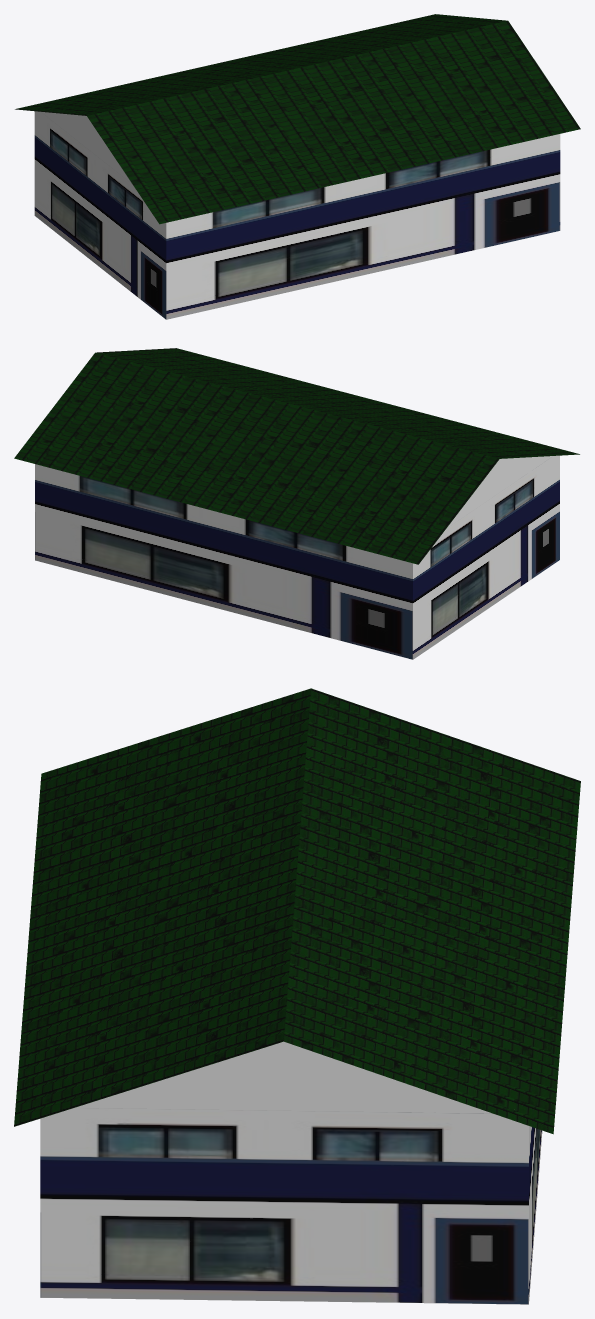
The picture shows the model from 3 angles, top to bottom: view 1: azimuth 30°, elevation 25°; view 2: azimuth 150°, elevation 25°; view 3: azimuth 270°, elevation 25°; orthographic projection. The views are drawn at different scales.
Parts seen in each view (by area): view 1: CityEngineMaterial_13_m, CityEngineMaterial_2_m, CityEngineMaterial_3_m; view 2: CityEngineMaterial_13_m, CityEngineMaterial_2_m, CityEngineMaterial_3_m; view 3: CityEngineMaterial_13_m, CityEngineMaterial_2_m, CityEngineMaterial_3_m.
Boxes of the visible parts, box(x1,y1,x2,y2) form: CityEngineMaterial_13_m: box(15, 14, 580, 224); CityEngineMaterial_2_m: box(34, 111, 560, 319); CityEngineMaterial_3_m: box(41, 112, 131, 183); CityEngineMaterial_13_m: box(14, 348, 579, 564); CityEngineMaterial_2_m: box(35, 455, 559, 659); CityEngineMaterial_3_m: box(446, 456, 552, 528); CityEngineMaterial_13_m: box(14, 688, 580, 1134); CityEngineMaterial_2_m: box(40, 1107, 542, 1304); CityEngineMaterial_3_m: box(75, 1041, 492, 1113).
Bounding box in the file's own units: 31.36 × 10.99 × 20.83.
